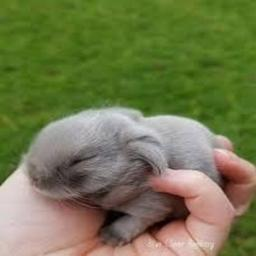rabbit: (21, 108, 224, 245)
